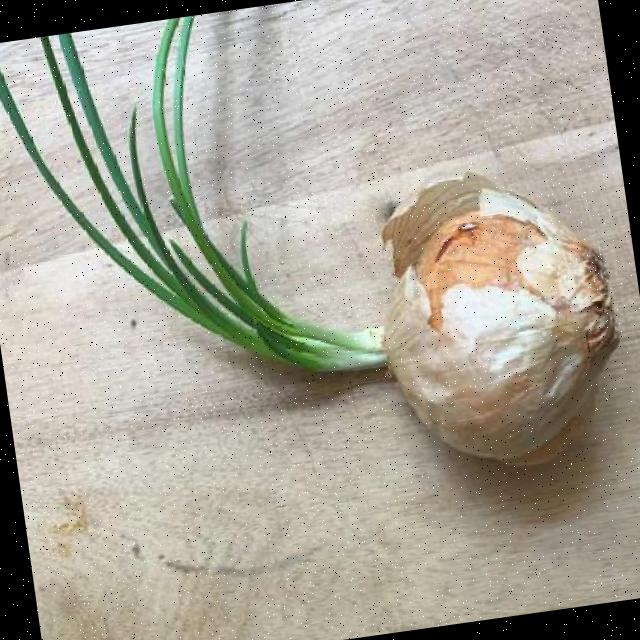Onion: (385, 173, 617, 463)
